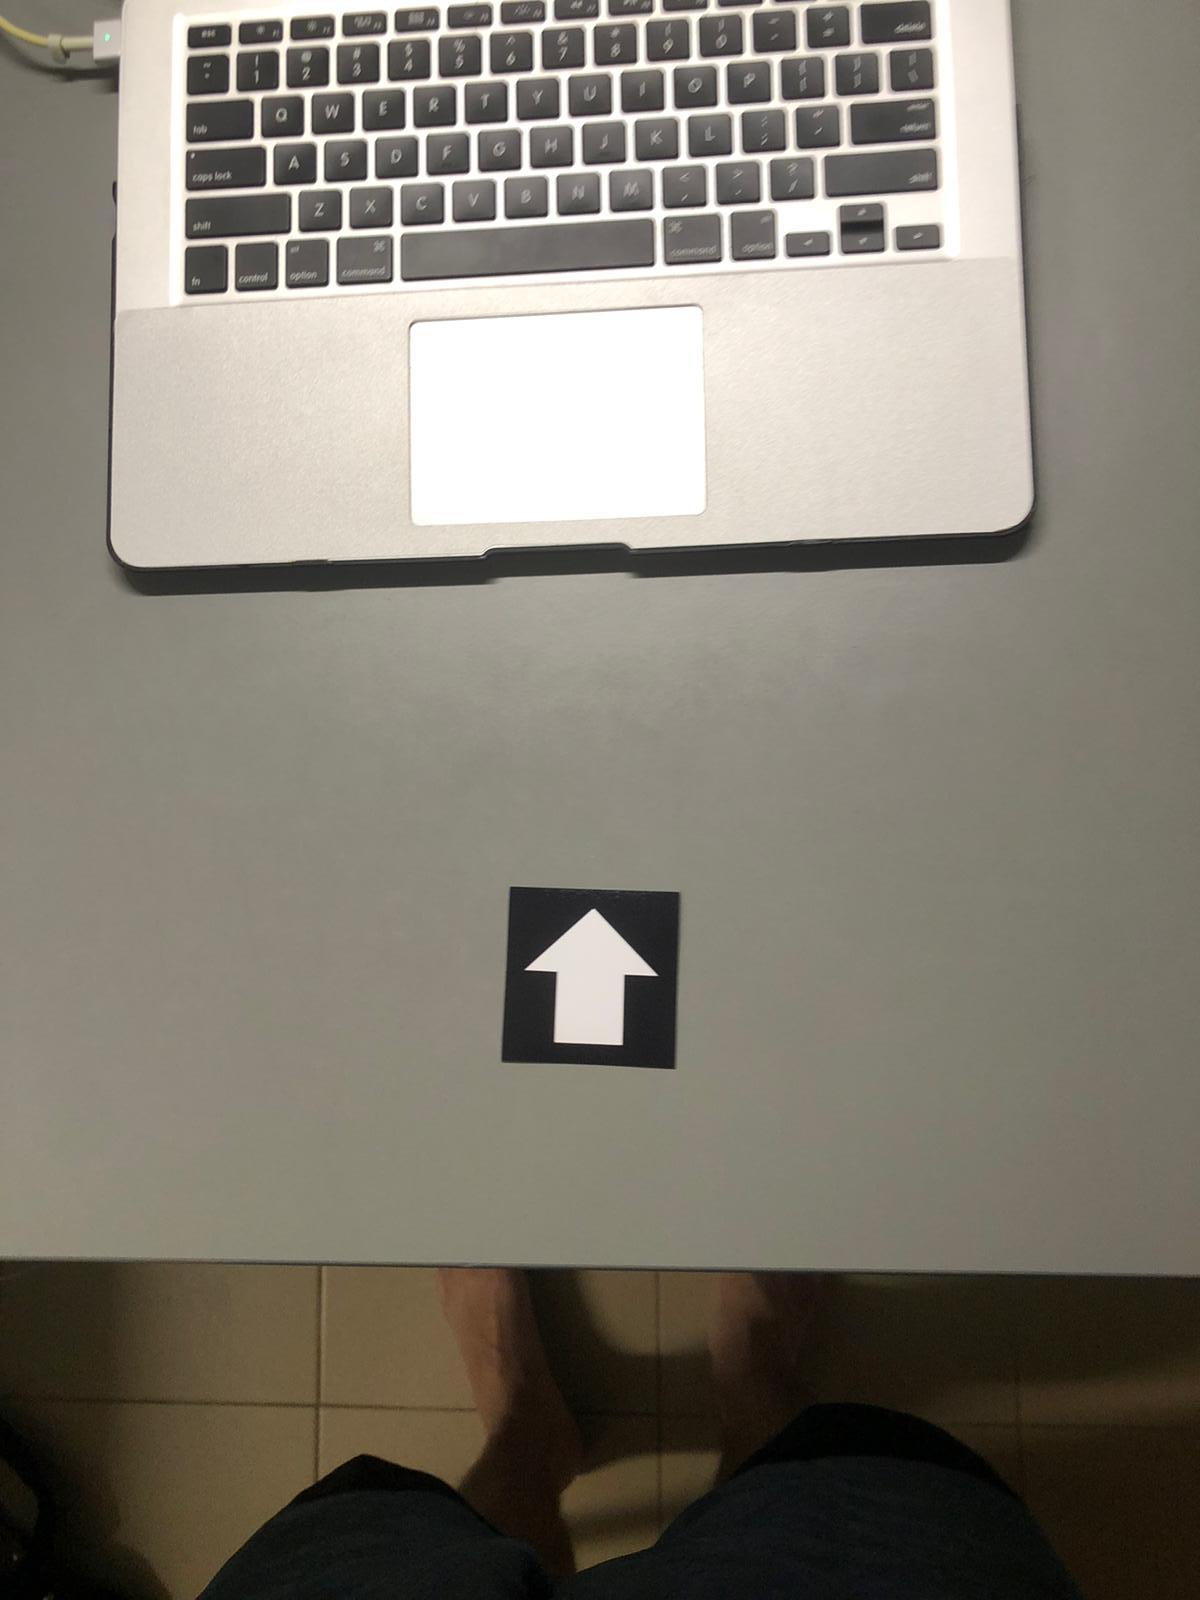Top Arrow: (494, 888, 684, 1073)
